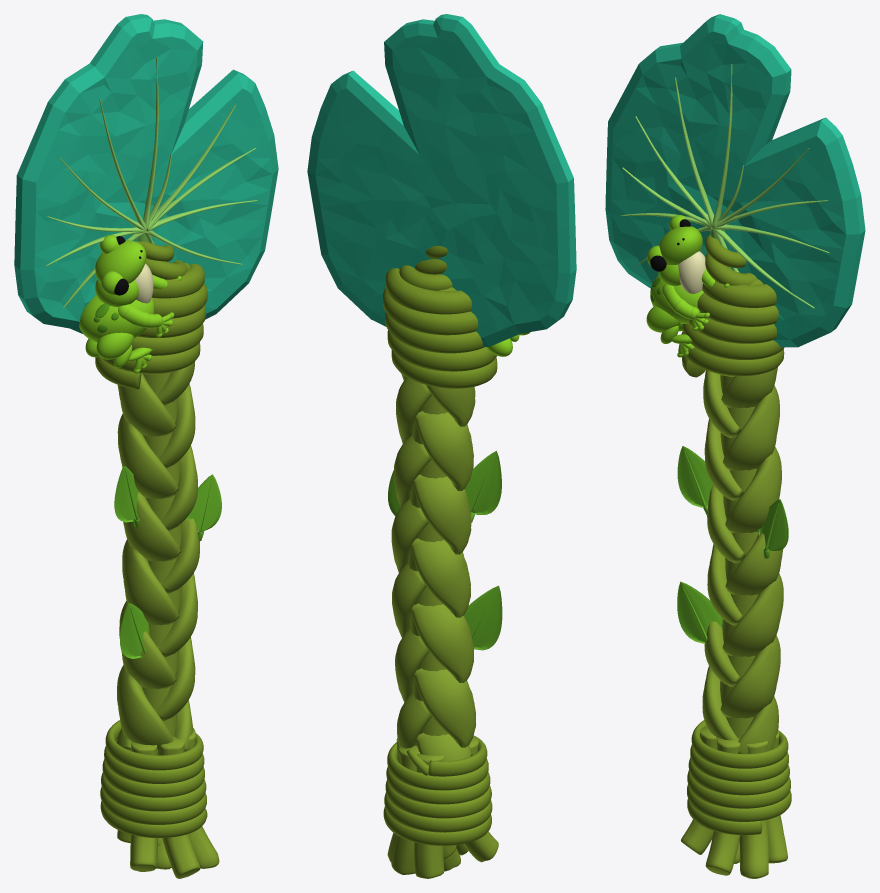
Rendered from PalaJuncoPantano.glb.
The picture shows the model from 3 angles, left to right: view 1: azimuth 30°, elevation 25°; view 2: azimuth 150°, elevation 25°; view 3: azimuth 330°, elevation 25°; orthographic projection. The views are drawn at different scales.
Parts seen in each view (by area): view 1: Blade_LilyPad, Shaft_Braid, Grip_Binding, Collar, Frog_Body, Blade_Veins, Grip_Reeds, Shaft_Leaves; view 2: Blade_LilyPad, Shaft_Braid, Collar, Grip_Binding, Shaft_Leaves, Grip_Reeds; view 3: Blade_LilyPad, Shaft_Braid, Collar, Grip_Binding, Frog_Body, Grip_Reeds, Blade_Veins, Shaft_Leaves, Frog_Belly.
Part boxes in pixels (x1,y1,x2,y2): Blade_LilyPad: (14,14,278,334); Shaft_Braid: (116,362,199,751); Grip_Binding: (100,720,207,837); Collar: (95,241,207,389); Frog_Body: (79,235,181,373); Blade_Veins: (46,57,257,308); Grip_Reeds: (117,728,219,878); Shaft_Leaves: (114,466,221,659); Blade_LilyPad: (307,14,576,346); Shaft_Braid: (391,373,475,761); Collar: (382,246,497,388); Grip_Binding: (383,735,492,845); Shaft_Leaves: (388,451,502,650); Grip_Reeds: (387,736,498,878); Blade_LilyPad: (605,14,865,347); Shaft_Braid: (702,367,783,753); Collar: (681,235,784,377); Grip_Binding: (687,720,791,835); Frog_Body: (646,215,729,357); Grip_Reeds: (681,726,787,878); Blade_Veins: (621,64,829,308); Shaft_Leaves: (677,446,788,643); Frog_Belly: (678,251,705,293).
Size of the model in its own units: 1.61 by 5.03 by 0.6416.
